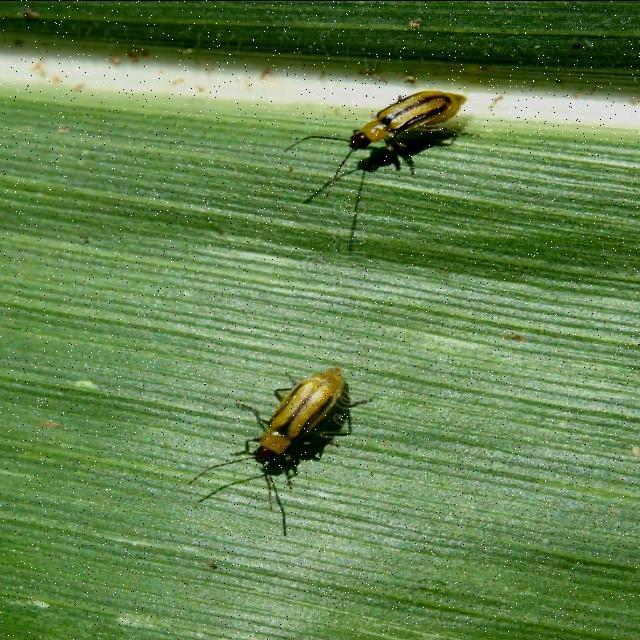trips: (188, 368, 374, 508), (286, 88, 472, 193)
